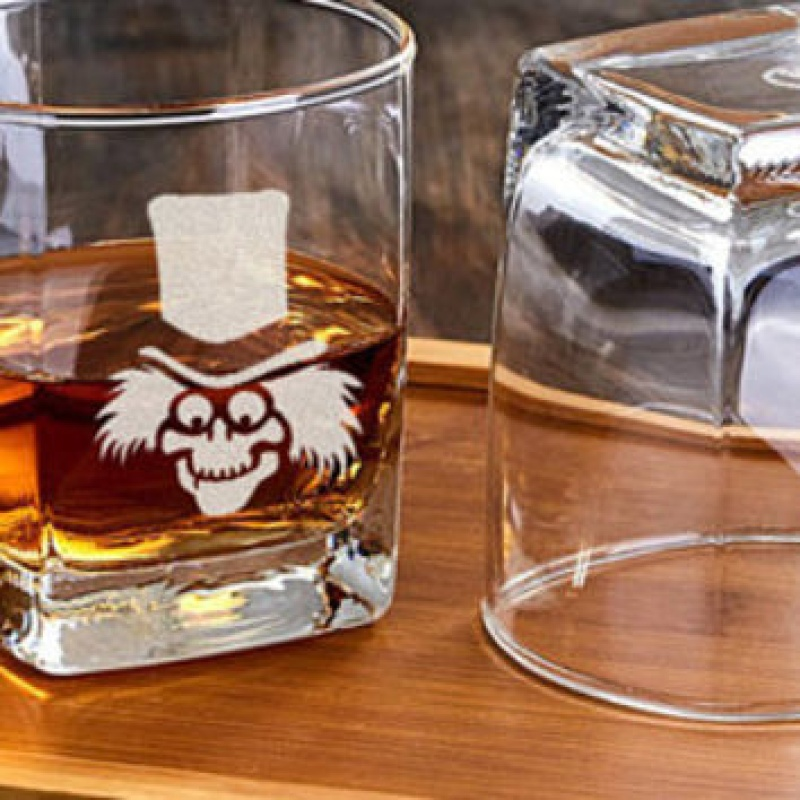whiskey: (1, 8, 428, 672)
